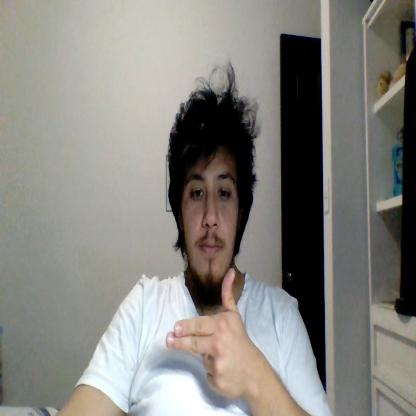H: (166, 268, 250, 398)
